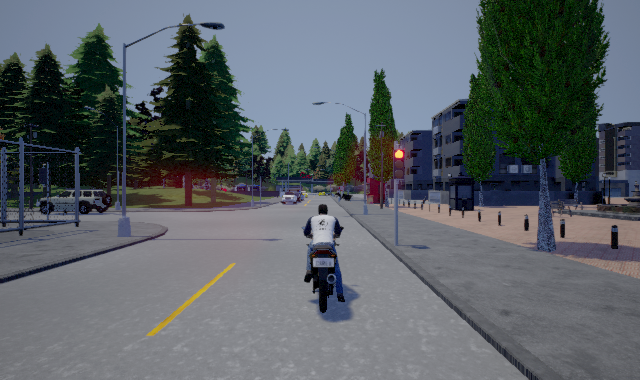motobike: (301, 204, 347, 315)
traffic_light: (393, 144, 404, 185)
vehicle: (38, 188, 112, 214), (281, 190, 308, 204)
